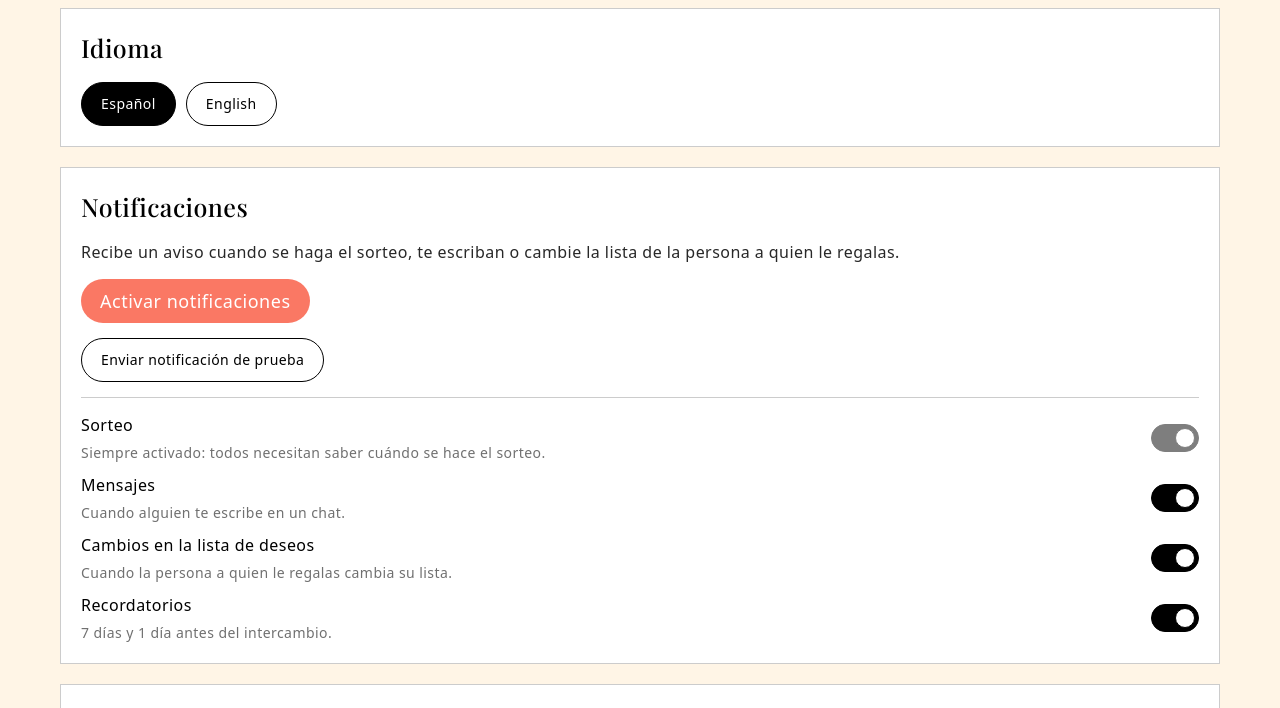
Test case: Profile › Notifications › Send test notification (non-production builds, once a device exists)
(page scrolled)
Click the button "Enviar notificación de prueba": (203, 360) [81,338,324,382]
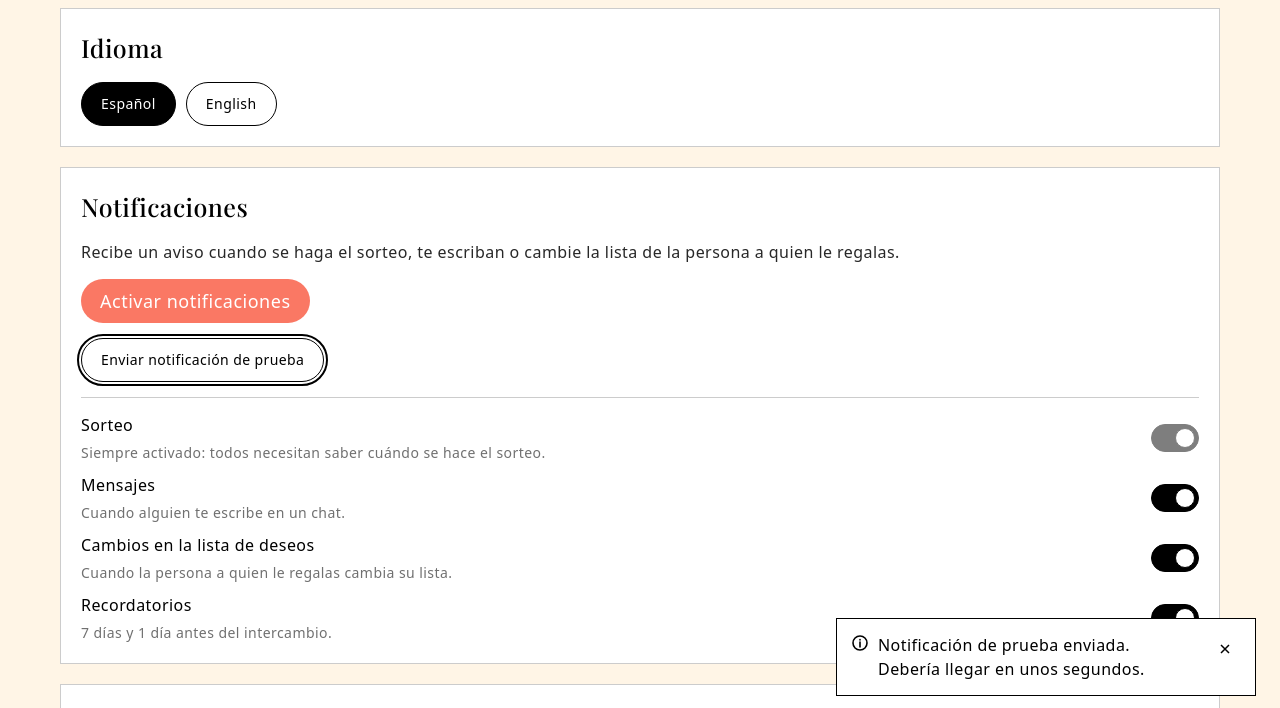
Expected: the text "Notificación de prueba enviada" is shown, [878,634,1145,680]
